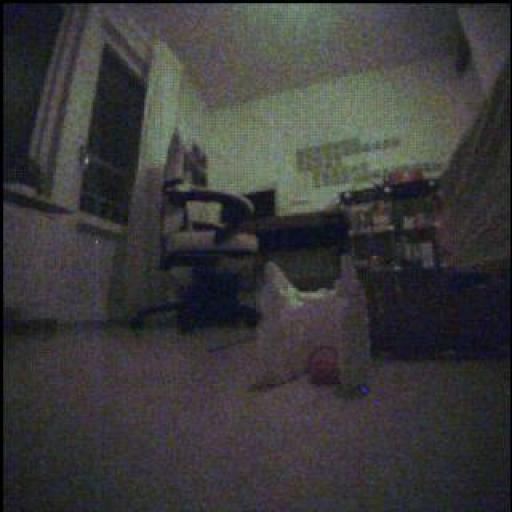basket: (308, 347, 340, 387)
